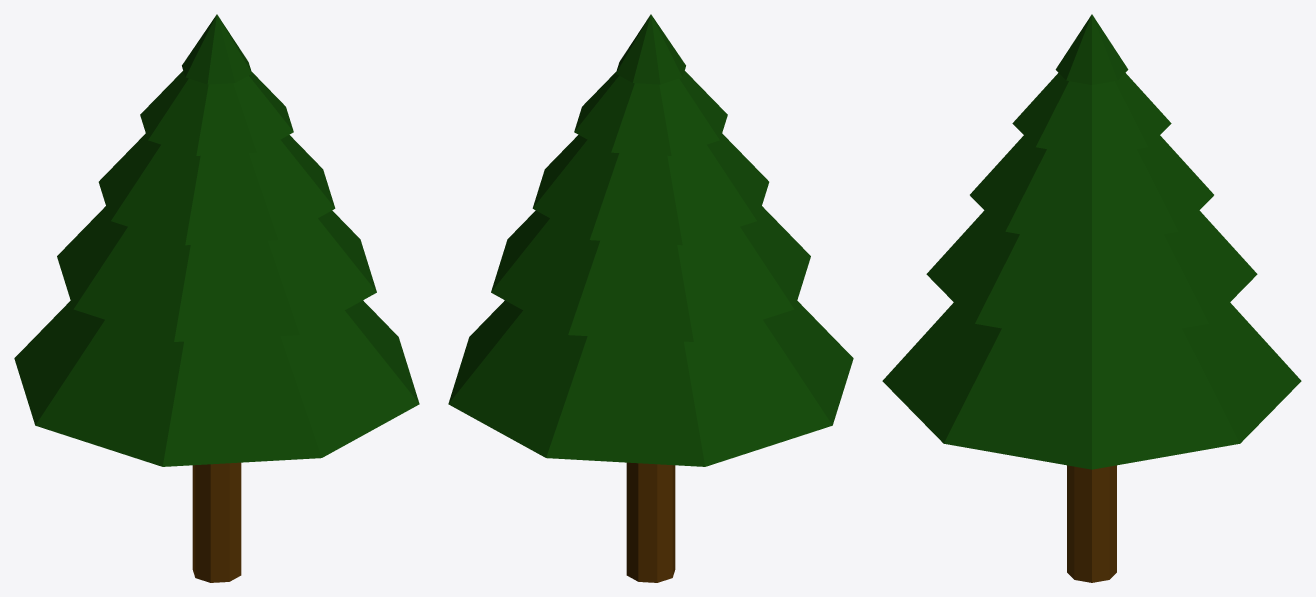
Rendered from sprucetree.fbx.
3 views of the same model, side by side, from view 1: azimuth 30°, elevation 25°; view 2: azimuth 150°, elevation 25°; view 3: azimuth 270°, elevation 25° (orthographic).
Parts seen in each view (by area): view 1: Circle.001; view 2: Circle.001; view 3: Circle.001.
Boxes of the visible parts, bbox=[...] form: Circle.001: bbox=[14, 14, 419, 582]; Circle.001: bbox=[448, 14, 853, 582]; Circle.001: bbox=[882, 14, 1301, 582].
Size of the model in its own units: 200 by 294 by 200.
